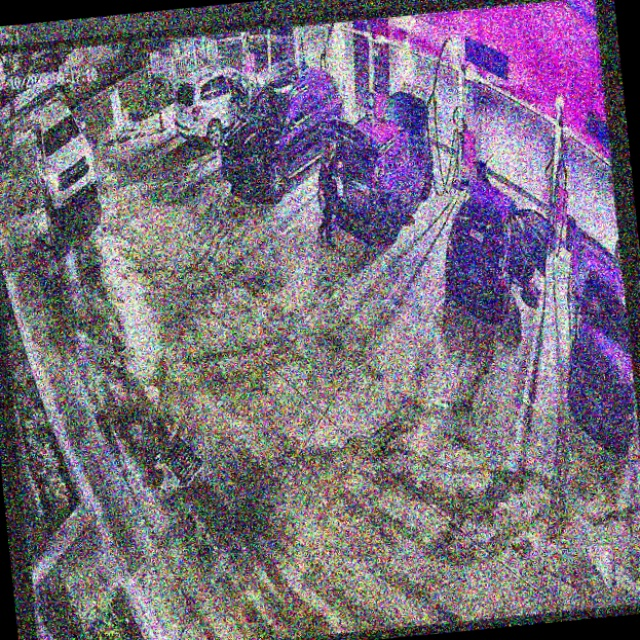Car: (323, 89, 440, 250), (439, 171, 556, 332), (216, 66, 352, 200), (168, 55, 278, 151)
